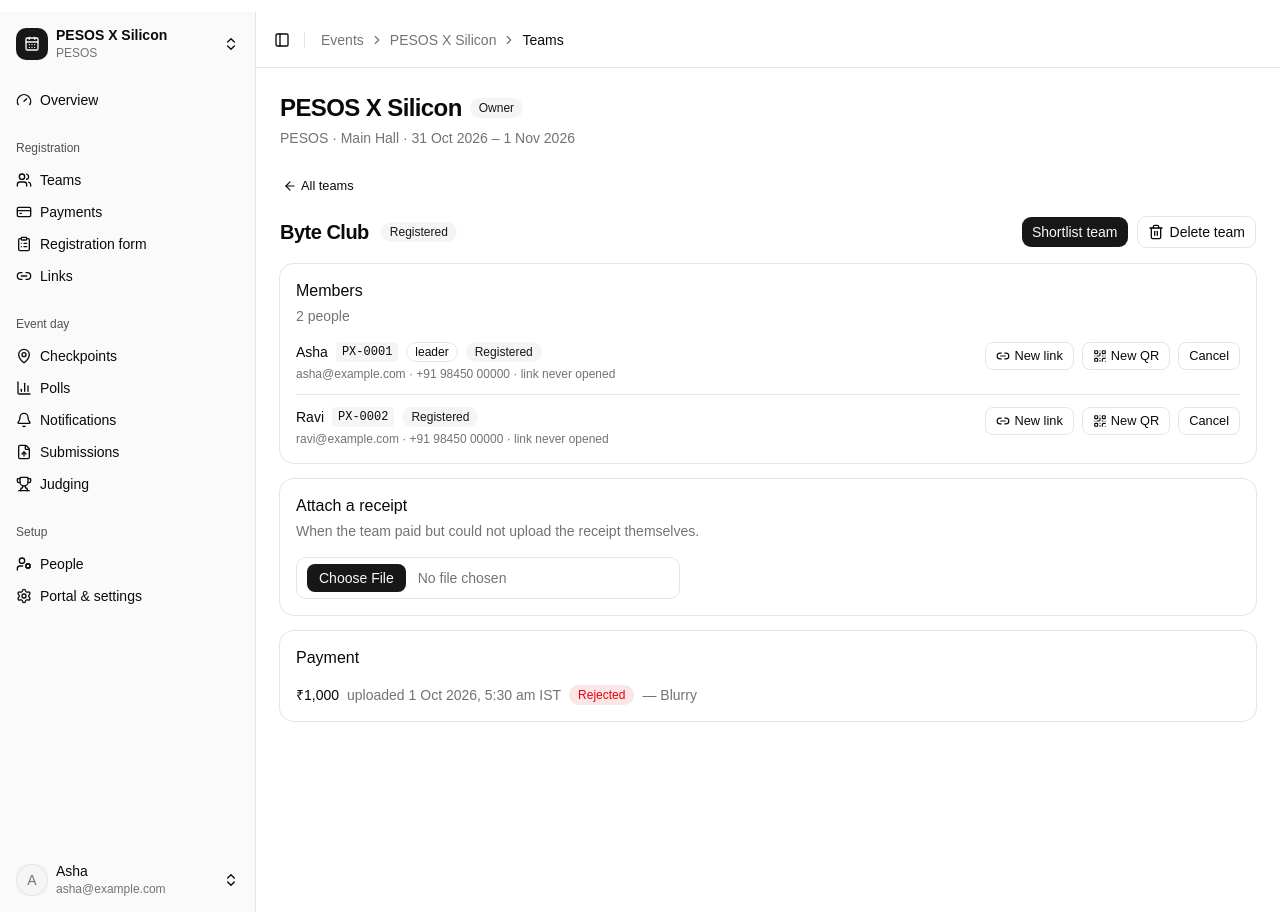
Scenario: teams › shortlists in pay-after-shortlist events and shows payments and errors
Expected: the text "— Blurry" is shown, x1=642 y1=685 x2=697 y2=705
Click the button "Shortlist team" at (1075, 232), box x1=1021 y1=216 x2=1128 y2=248
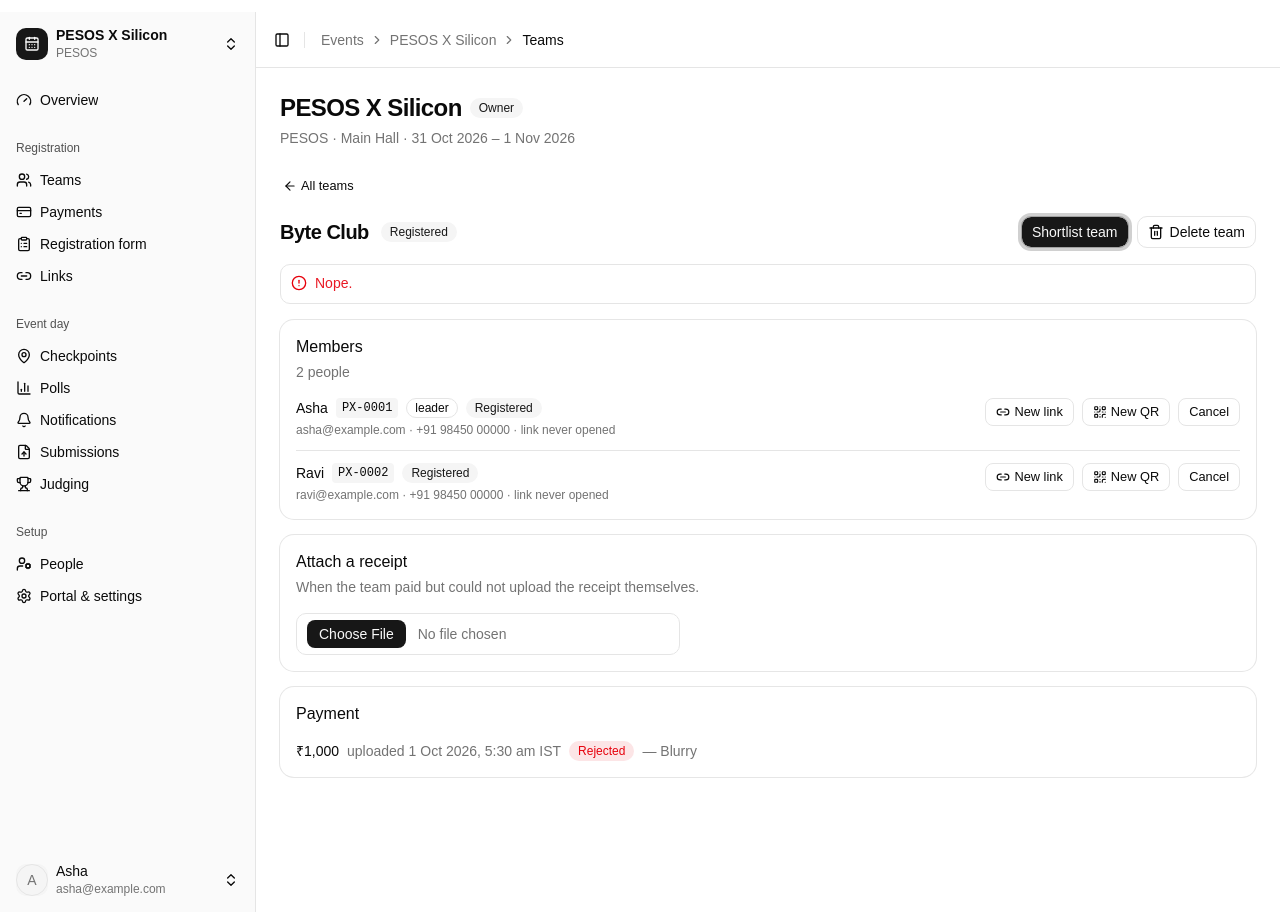
Expected: the message reads "Nope.", x1=315 y1=275 x2=352 y2=291
